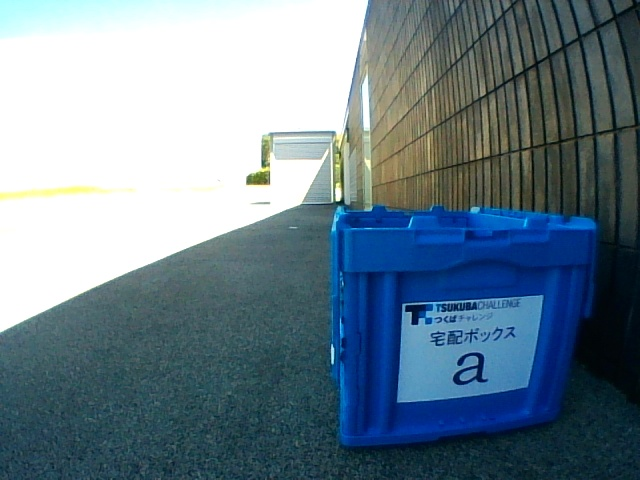blue_box: (331, 204, 596, 447)
tag_a: (405, 304, 520, 387)
